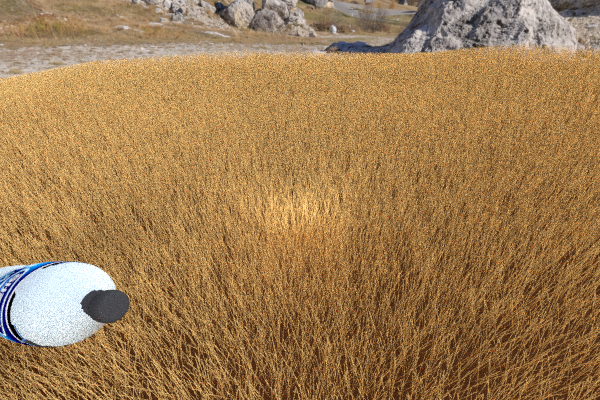bottle: (0, 261, 129, 347)
can: (586, 226, 600, 346), (31, 107, 70, 141)
